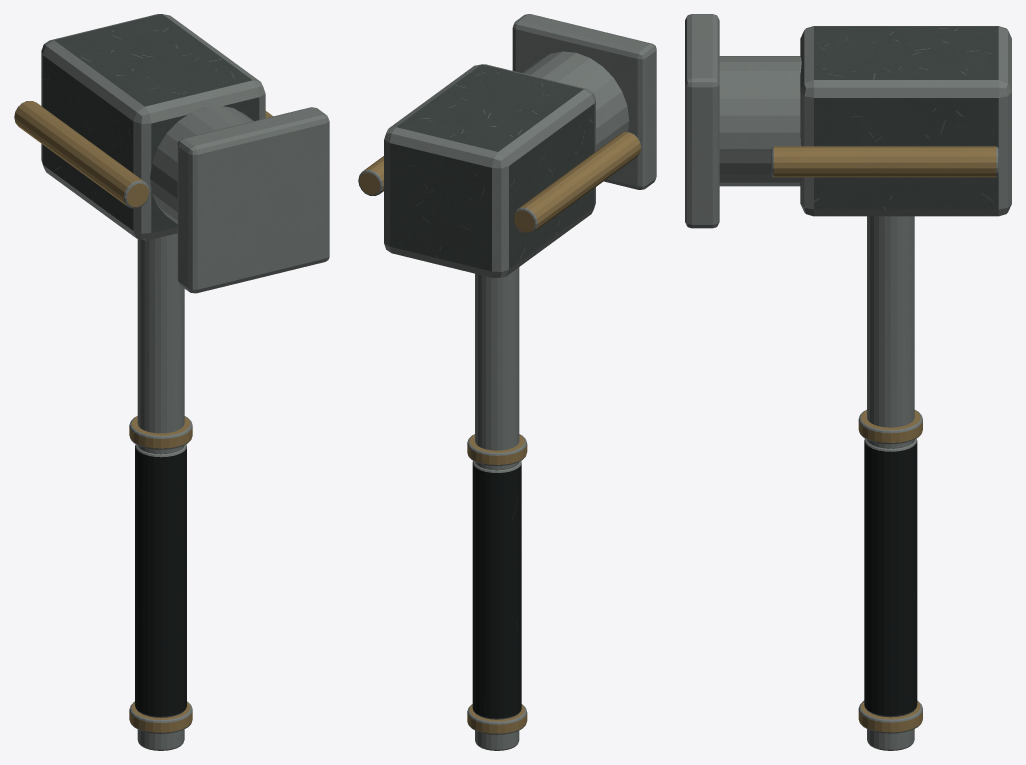
The model's file is hammer-t3.glb.
3 renders of one model, left to right at view 1: azimuth 30°, elevation 25°; view 2: azimuth 150°, elevation 25°; view 3: azimuth 270°, elevation 25°, orthographic. The views are drawn at different scales.
Parts seen in each view (by area): view 1: Ram block, Flat piston face, Continuous two-hand wrap, Steel shaft, Ram return rod, Sliding impact piston, Grip ferrule.001, Grip ferrule; view 2: Ram block, Continuous two-hand wrap, Flat piston face, Steel shaft, Ram return rod, Sliding impact piston, Grip ferrule.001, Grip ferrule, Ram return rod.001; view 3: Ram block, Continuous two-hand wrap, Steel shaft, Sliding impact piston, Flat piston face, Ram return rod.001, Grip ferrule.001, Grip ferrule.
Part boxes in pixels (<box>): Ram block: <box>41,14,265,240</box>; Flat piston face: <box>177,107,329,293</box>; Continuous two-hand wrap: <box>135,444,186,717</box>; Steel shaft: <box>137,233,184,750</box>; Ram return rod: <box>14,101,149,208</box>; Sliding impact piston: <box>150,105,253,223</box>; Grip ferrule.001: <box>129,416,192,449</box>; Grip ferrule: <box>129,701,192,733</box>; Ram block: <box>384,64,595,278</box>; Continuous two-hand wrap: <box>472,461,521,719</box>; Flat piston face: <box>512,14,656,189</box>; Steel shaft: <box>475,267,519,750</box>; Ram return rod: <box>513,132,641,233</box>; Sliding impact piston: <box>522,51,629,151</box>; Grip ferrule.001: <box>467,434,527,465</box>; Grip ferrule: <box>467,704,527,734</box>; Ram return rod.001: <box>358,156,383,195</box>; Ram block: <box>800,26,1011,216</box>; Continuous two-hand wrap: <box>864,438,917,717</box>; Steel shaft: <box>867,216,914,750</box>; Sliding impact piston: <box>719,56,801,186</box>; Flat piston face: <box>685,14,719,228</box>; Ram return rod.001: <box>771,146,998,177</box>; Grip ferrule.001: <box>858,409,922,444</box>; Grip ferrule: <box>858,700,922,733</box>.
Size of the model in its own units: 0.58 by 2 by 0.85.
Materials: 4 (4 with a texture image).
